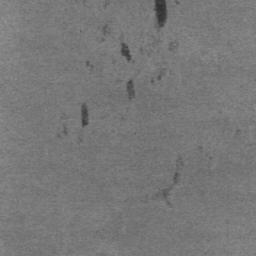Iron scale compression: (154, 0, 167, 28), (79, 100, 88, 129), (119, 42, 131, 63), (125, 79, 135, 101)
